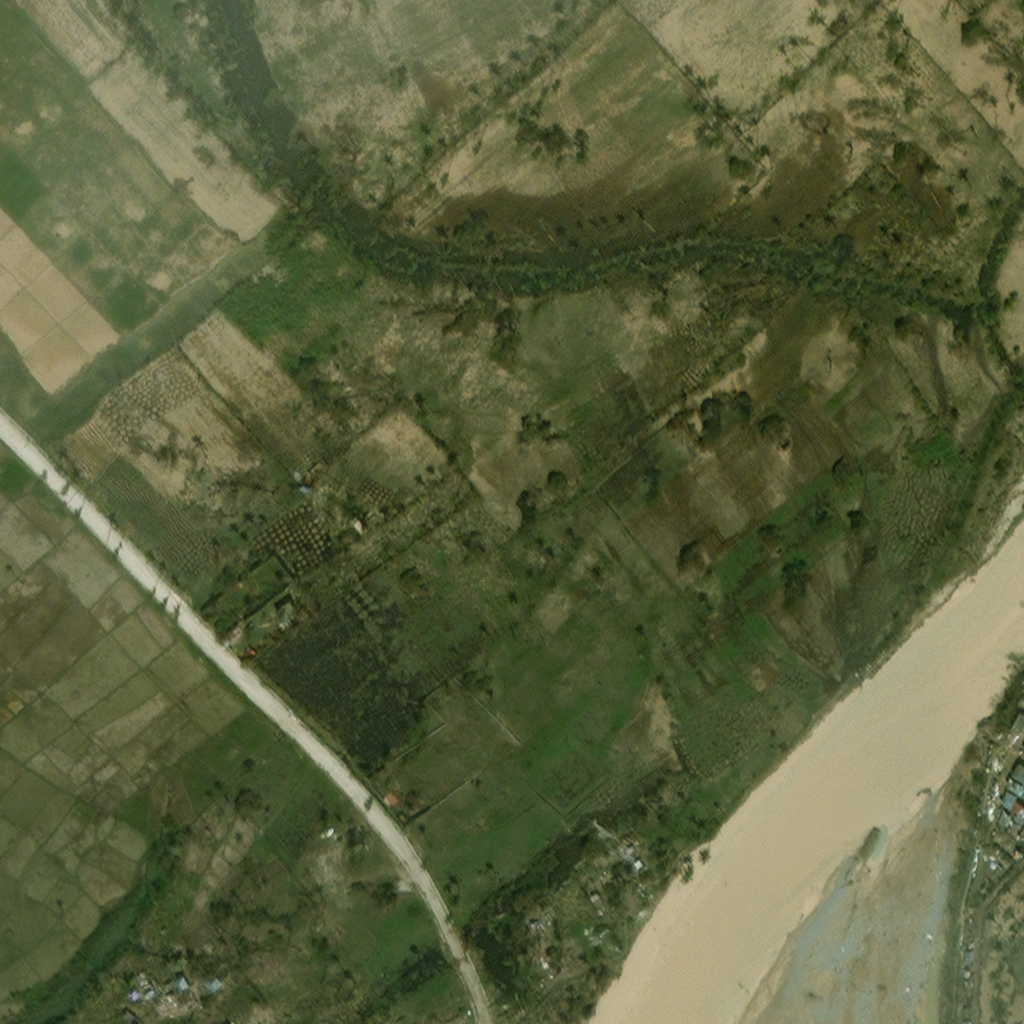destroyed: (540, 951, 563, 983), (572, 928, 594, 950), (292, 479, 313, 501), (1009, 707, 1023, 736), (176, 998, 196, 1018), (597, 877, 614, 897), (1001, 828, 1018, 842), (163, 998, 177, 1013), (587, 900, 603, 913), (633, 918, 645, 928), (143, 990, 153, 1001), (157, 930, 167, 940), (394, 790, 400, 798)
major_damage: (626, 858, 643, 878)
minor_damage: (199, 973, 221, 997), (1007, 763, 1023, 789), (995, 809, 1009, 829), (130, 992, 141, 1006), (174, 980, 184, 990)
no_damage: (1003, 780, 1020, 795)
unclassified: (1007, 801, 1023, 822)
